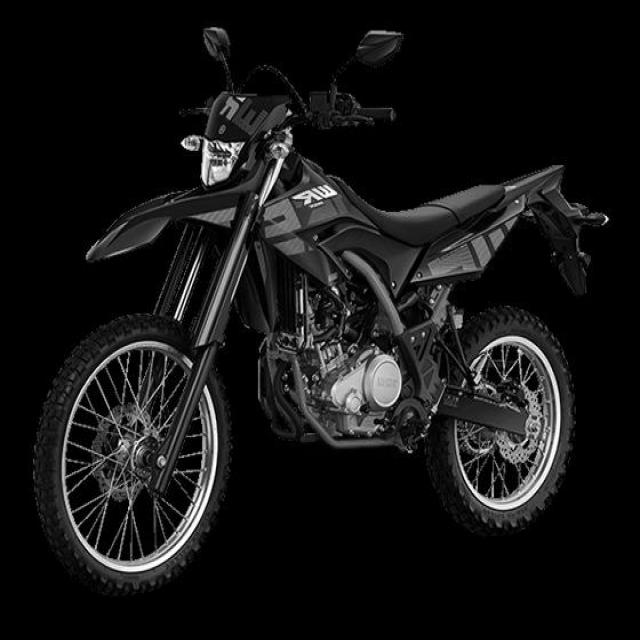Motorcycle: (34, 27, 607, 598)
